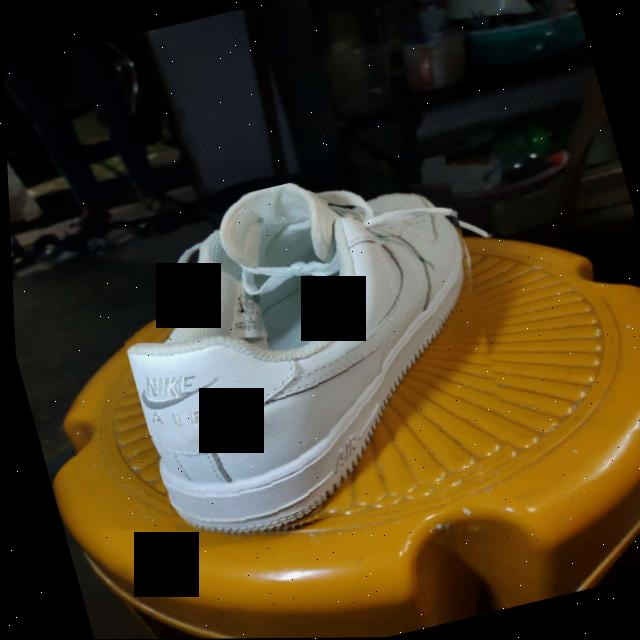shoe: (88, 146, 530, 557)
